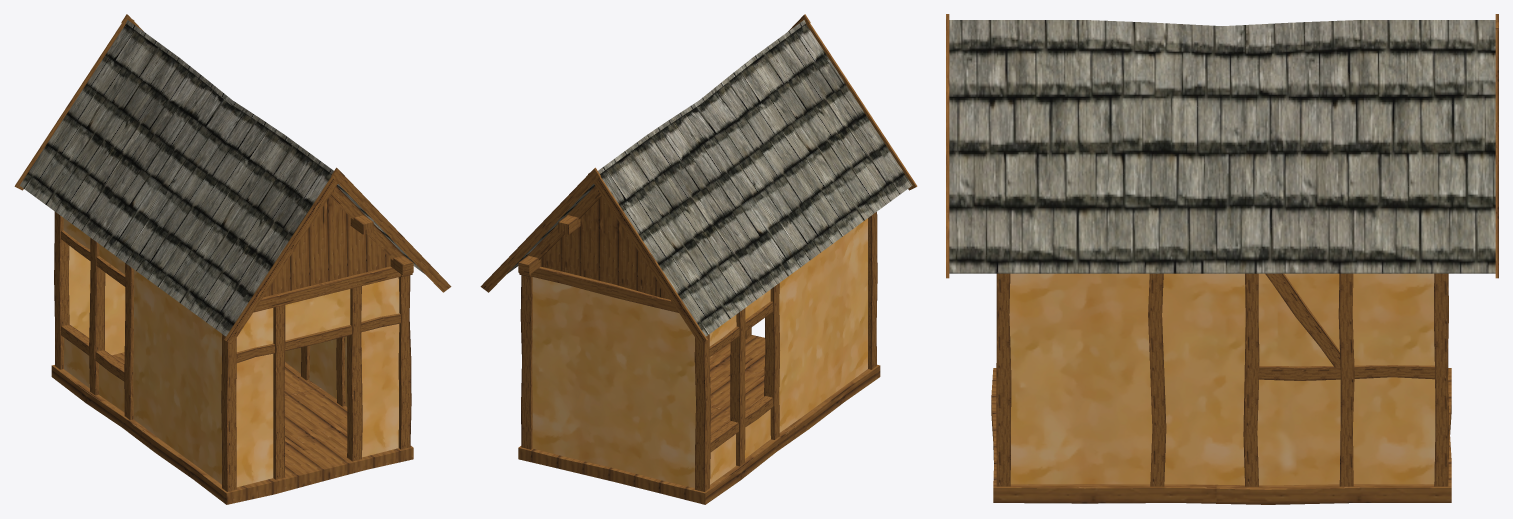
File: MedievalBilding.fbx
3 views of the same model, side by side, from view 1: azimuth 30°, elevation 25°; view 2: azimuth 150°, elevation 25°; view 3: azimuth 270°, elevation 25° (orthographic). The views are drawn at different scales.
Parts seen in each view (by area): view 1: polySurface3, polySurface2; view 2: polySurface3, polySurface2; view 3: polySurface3, polySurface2.
Boxes of the visible parts, x1=… form: polySurface3: x1=14, y1=14, x2=451, y2=504; polySurface2: x1=54, y1=190, x2=413, y2=491; polySurface3: x1=480, y1=14, x2=917, y2=504; polySurface2: x1=518, y1=190, x2=877, y2=491; polySurface3: x1=946, y1=14, x2=1498, y2=504; polySurface2: x1=996, y1=273, x2=1449, y2=486.
Size of the model in its own units: 73.94 by 102 by 119.
